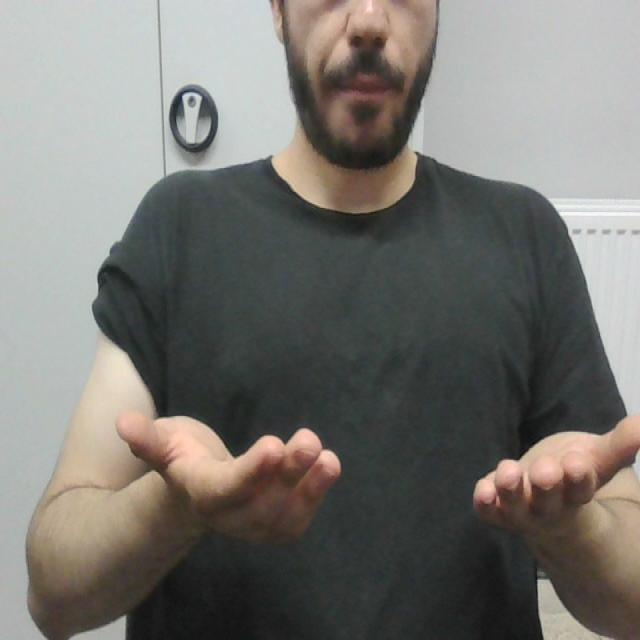Evet: (111, 406, 640, 550)
